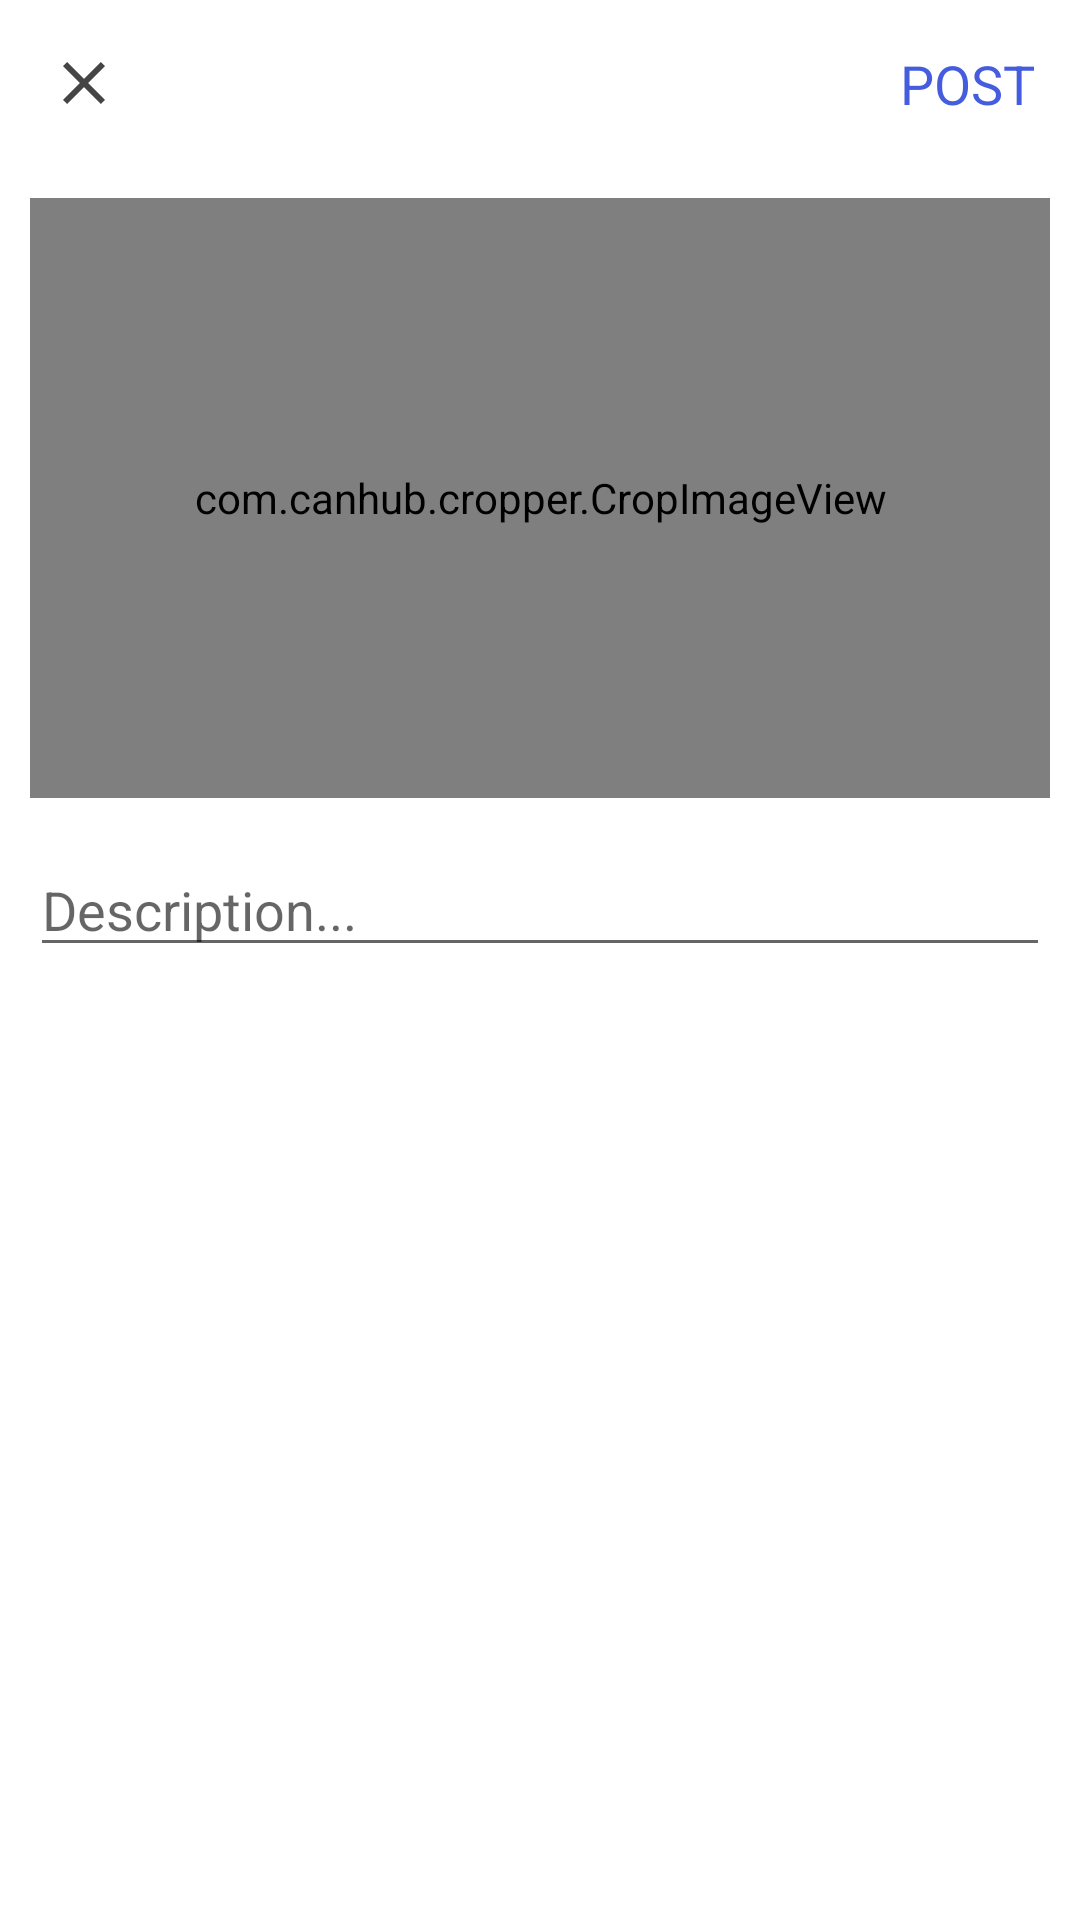

Icons on this 1080x1920 Android screen, each with the point to tap as (x=x, y=y):
close: (x=84, y=83)
